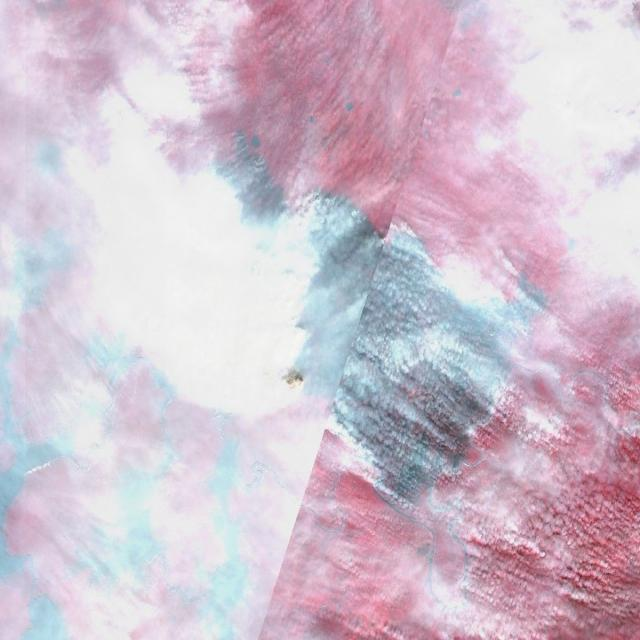fire: (215, 128, 552, 493)
